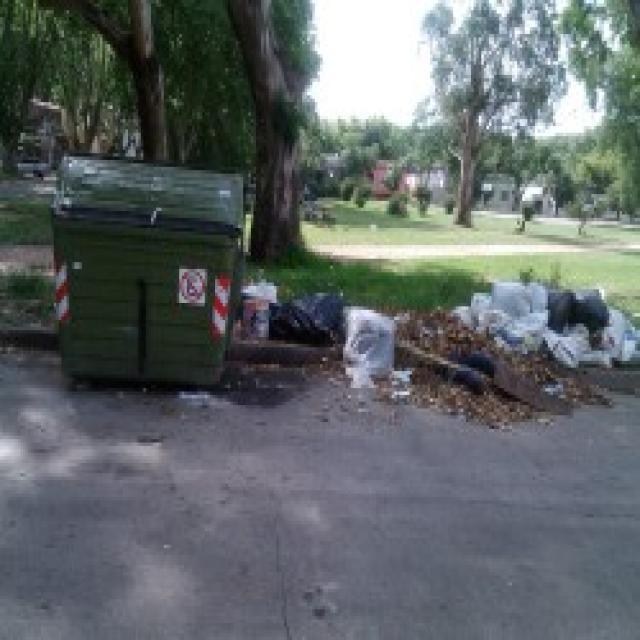garbage: (240, 270, 392, 384), (453, 282, 638, 364)
